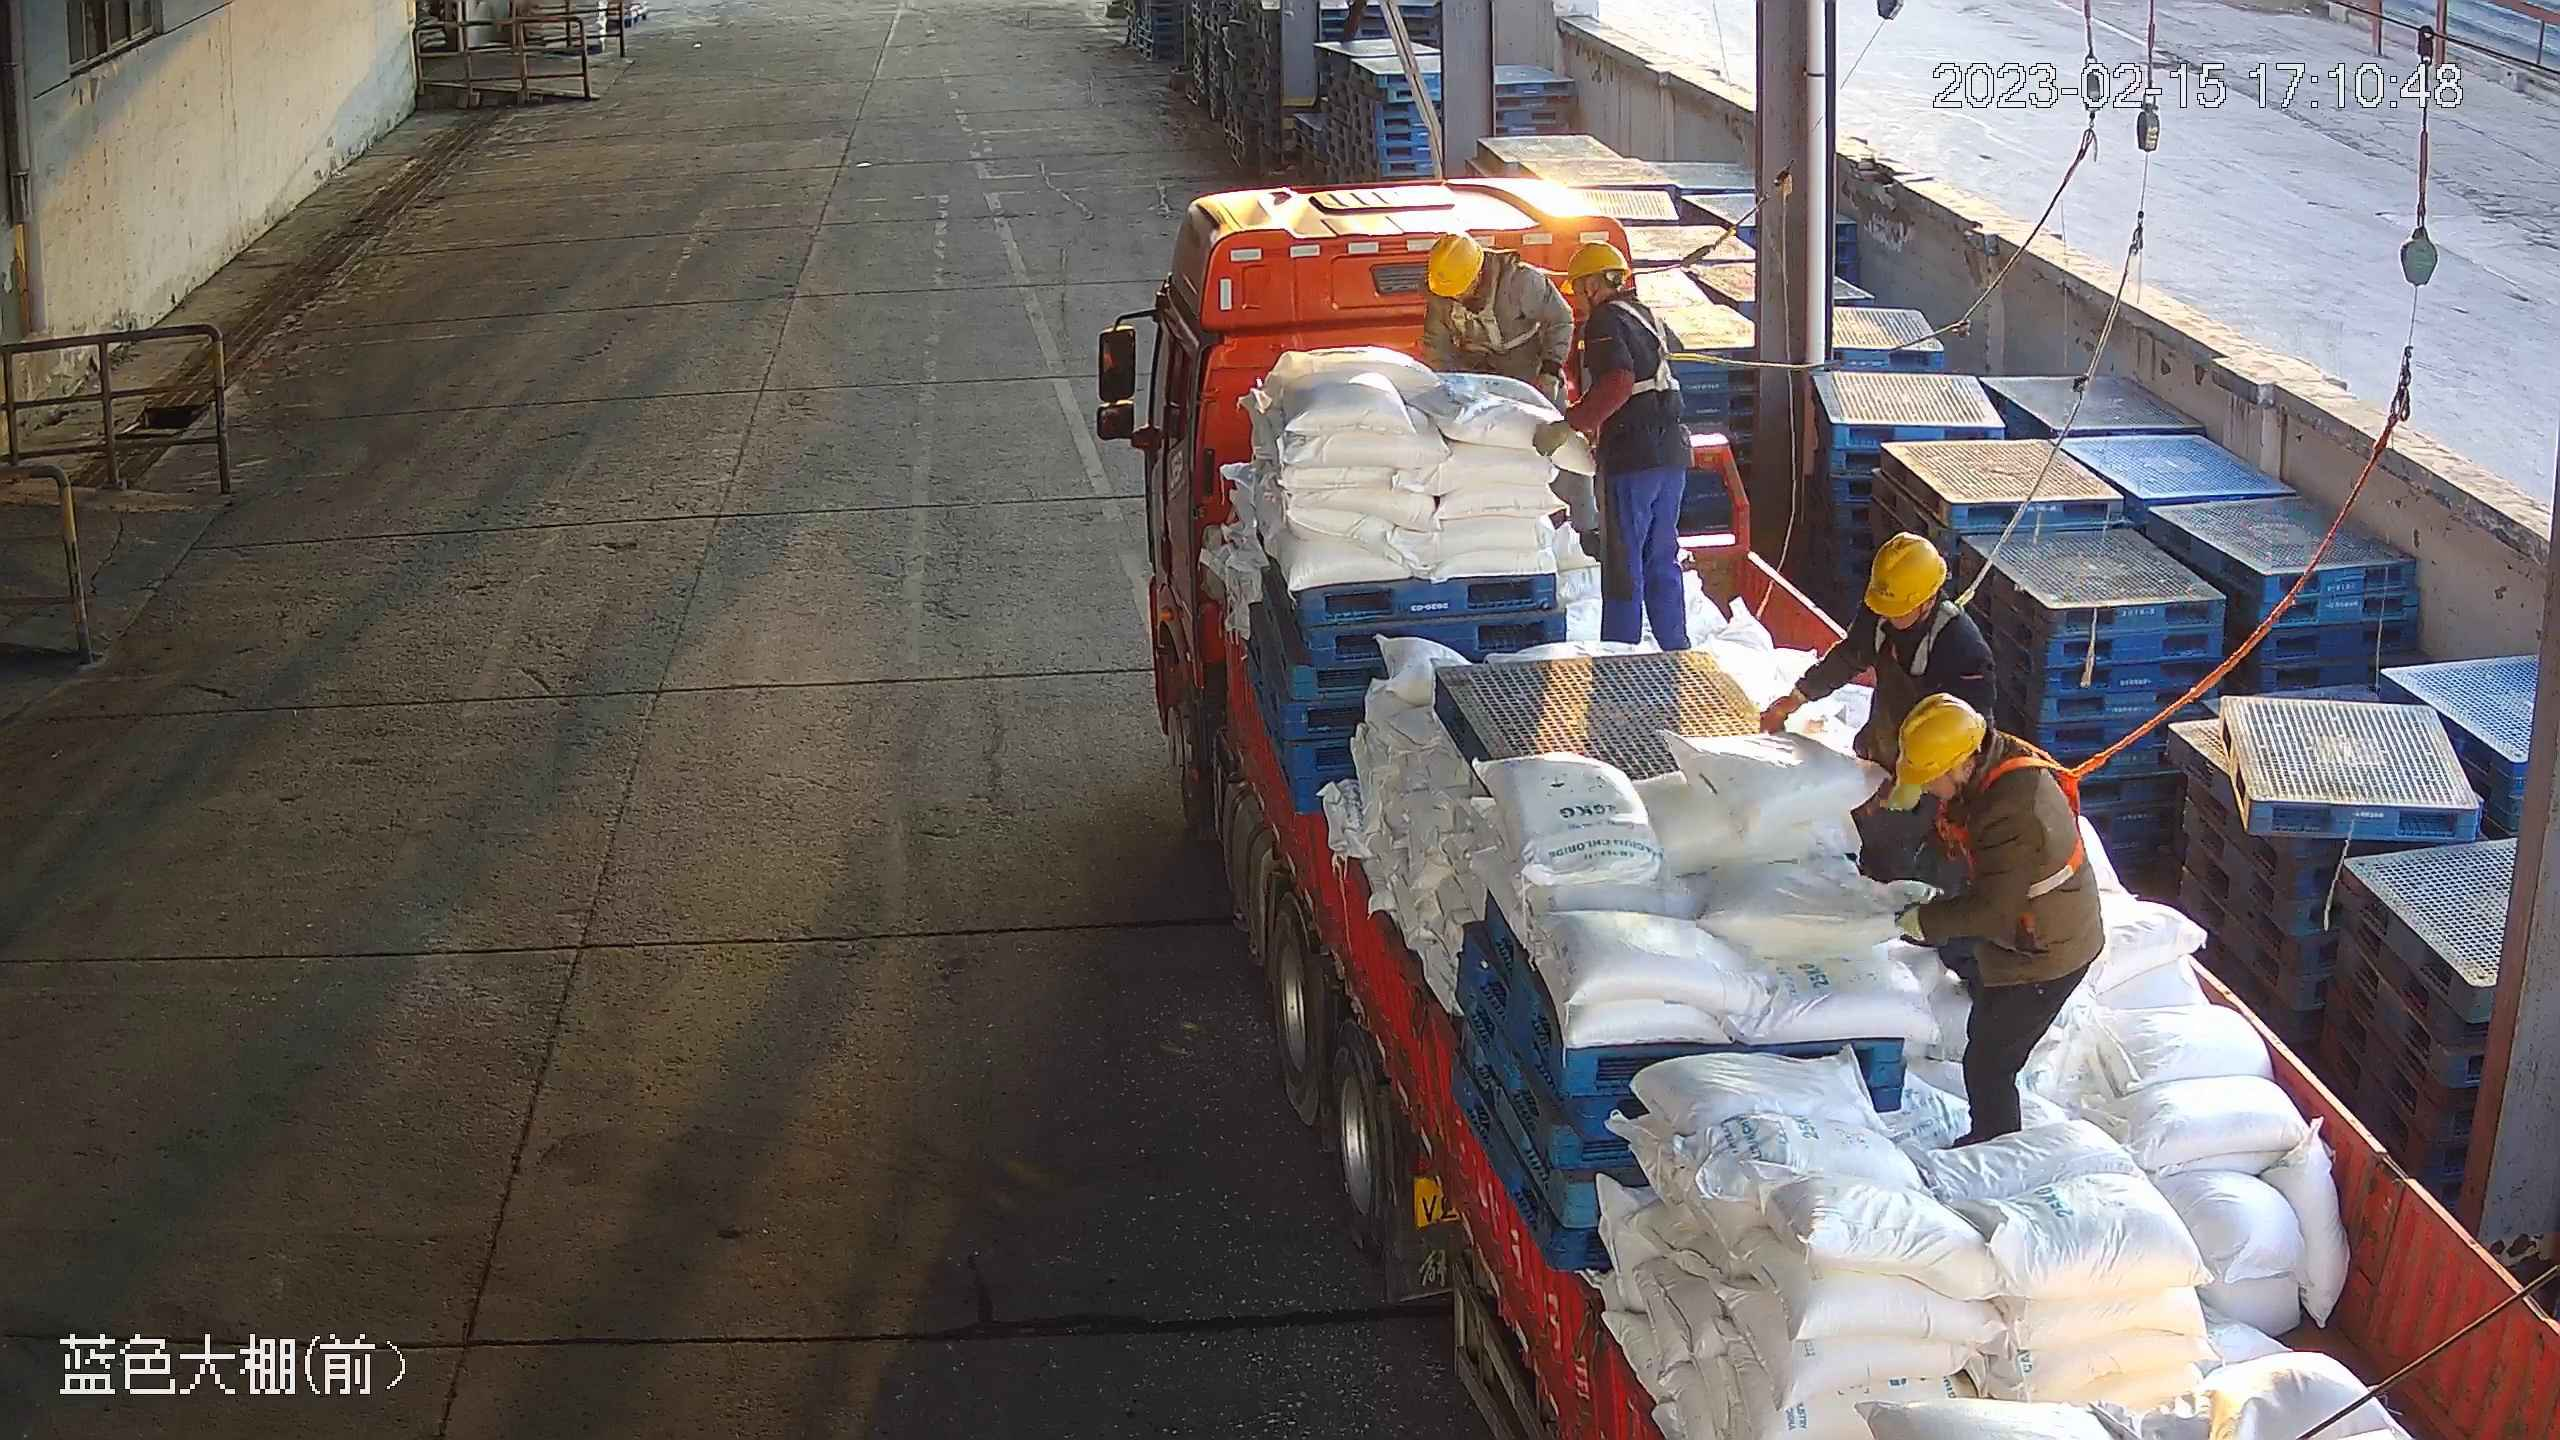belt: (1978, 721, 2112, 897), (1615, 295, 1705, 401), (1862, 611, 1983, 680), (1438, 302, 1541, 358)
head: (1895, 692, 2048, 868), (1821, 527, 1986, 671), (1541, 244, 1671, 377), (1421, 230, 1533, 340)
helmet: (1897, 690, 1988, 789), (1864, 533, 1948, 618), (1429, 232, 1484, 299), (1560, 239, 1629, 292)
people: (1888, 695, 2107, 1142), (1759, 532, 1998, 895), (1528, 237, 1700, 651), (1417, 228, 1602, 571)
truck: (1090, 177, 2560, 1440)
